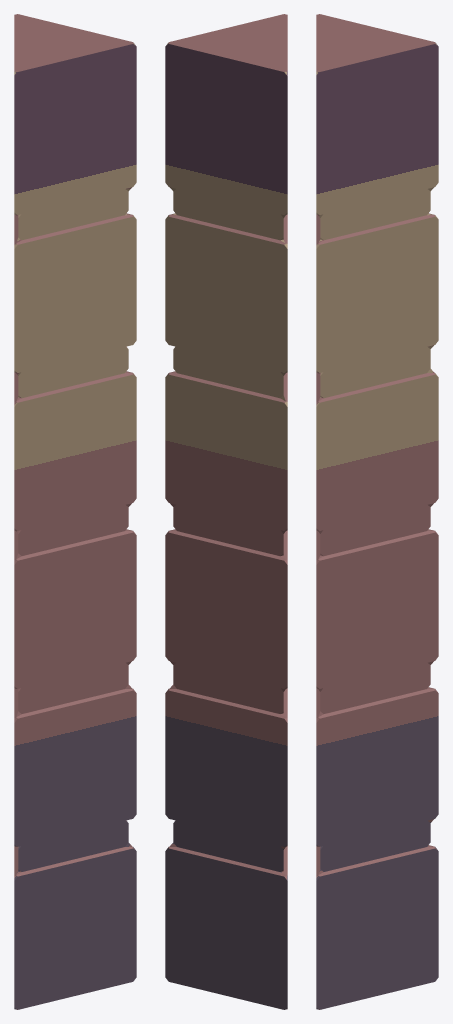
The model's file is Pillar 3.002.fbx.
3 views of the same model, side by side, from view 1: azimuth 30°, elevation 25°; view 2: azimuth 210°, elevation 25°; view 3: azimuth 270°, elevation 25° (orthographic).
Parts seen in each view (by area): view 1: Pillar 3.002; view 2: Pillar 3.002; view 3: Pillar 3.002.
Boxes of the visible parts, x1=… form: Pillar 3.002: x1=14, y1=14, x2=136, y2=1009; Pillar 3.002: x1=165, y1=14, x2=287, y2=1009; Pillar 3.002: x1=316, y1=14, x2=438, y2=1009.
Size of the model in its own units: 81.25 by 594 by 70.36.
